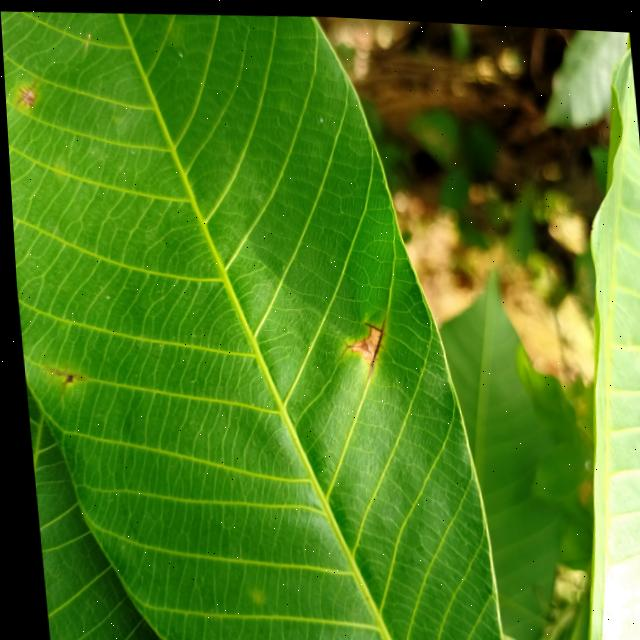Corynespora: (357, 311, 387, 378), (11, 77, 37, 110), (358, 316, 376, 334)
Leaf-Blight: (344, 321, 377, 357)
